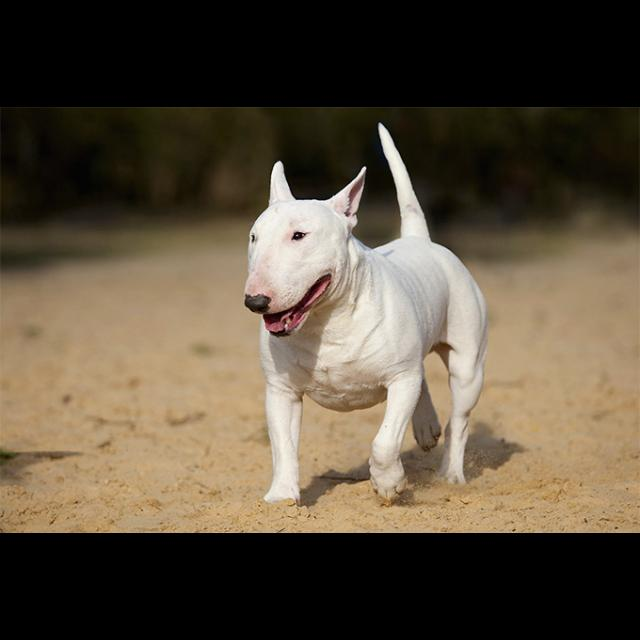bullterrier: (243, 122, 489, 508)
